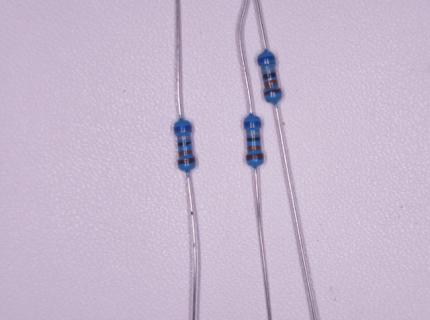Black band: (263, 73, 276, 79), (178, 142, 192, 147), (247, 138, 261, 142)
Blue band: (174, 125, 192, 132), (259, 56, 275, 63), (245, 121, 261, 126)
Brown band: (264, 88, 282, 96), (247, 154, 264, 161), (179, 158, 195, 165)
Grey band: (261, 67, 275, 73), (178, 136, 190, 140), (247, 132, 260, 135)
Orange band: (265, 80, 278, 88), (179, 150, 192, 156), (248, 146, 261, 150)
